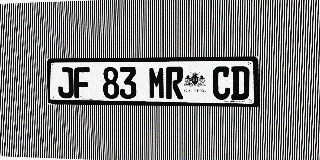3: (120, 67, 136, 99)
8: (103, 67, 119, 99)
C: (212, 66, 231, 100)
D: (231, 66, 250, 100)
F: (74, 67, 90, 98)
J: (57, 67, 74, 98)
M: (148, 67, 165, 99)
R: (166, 66, 183, 99)
